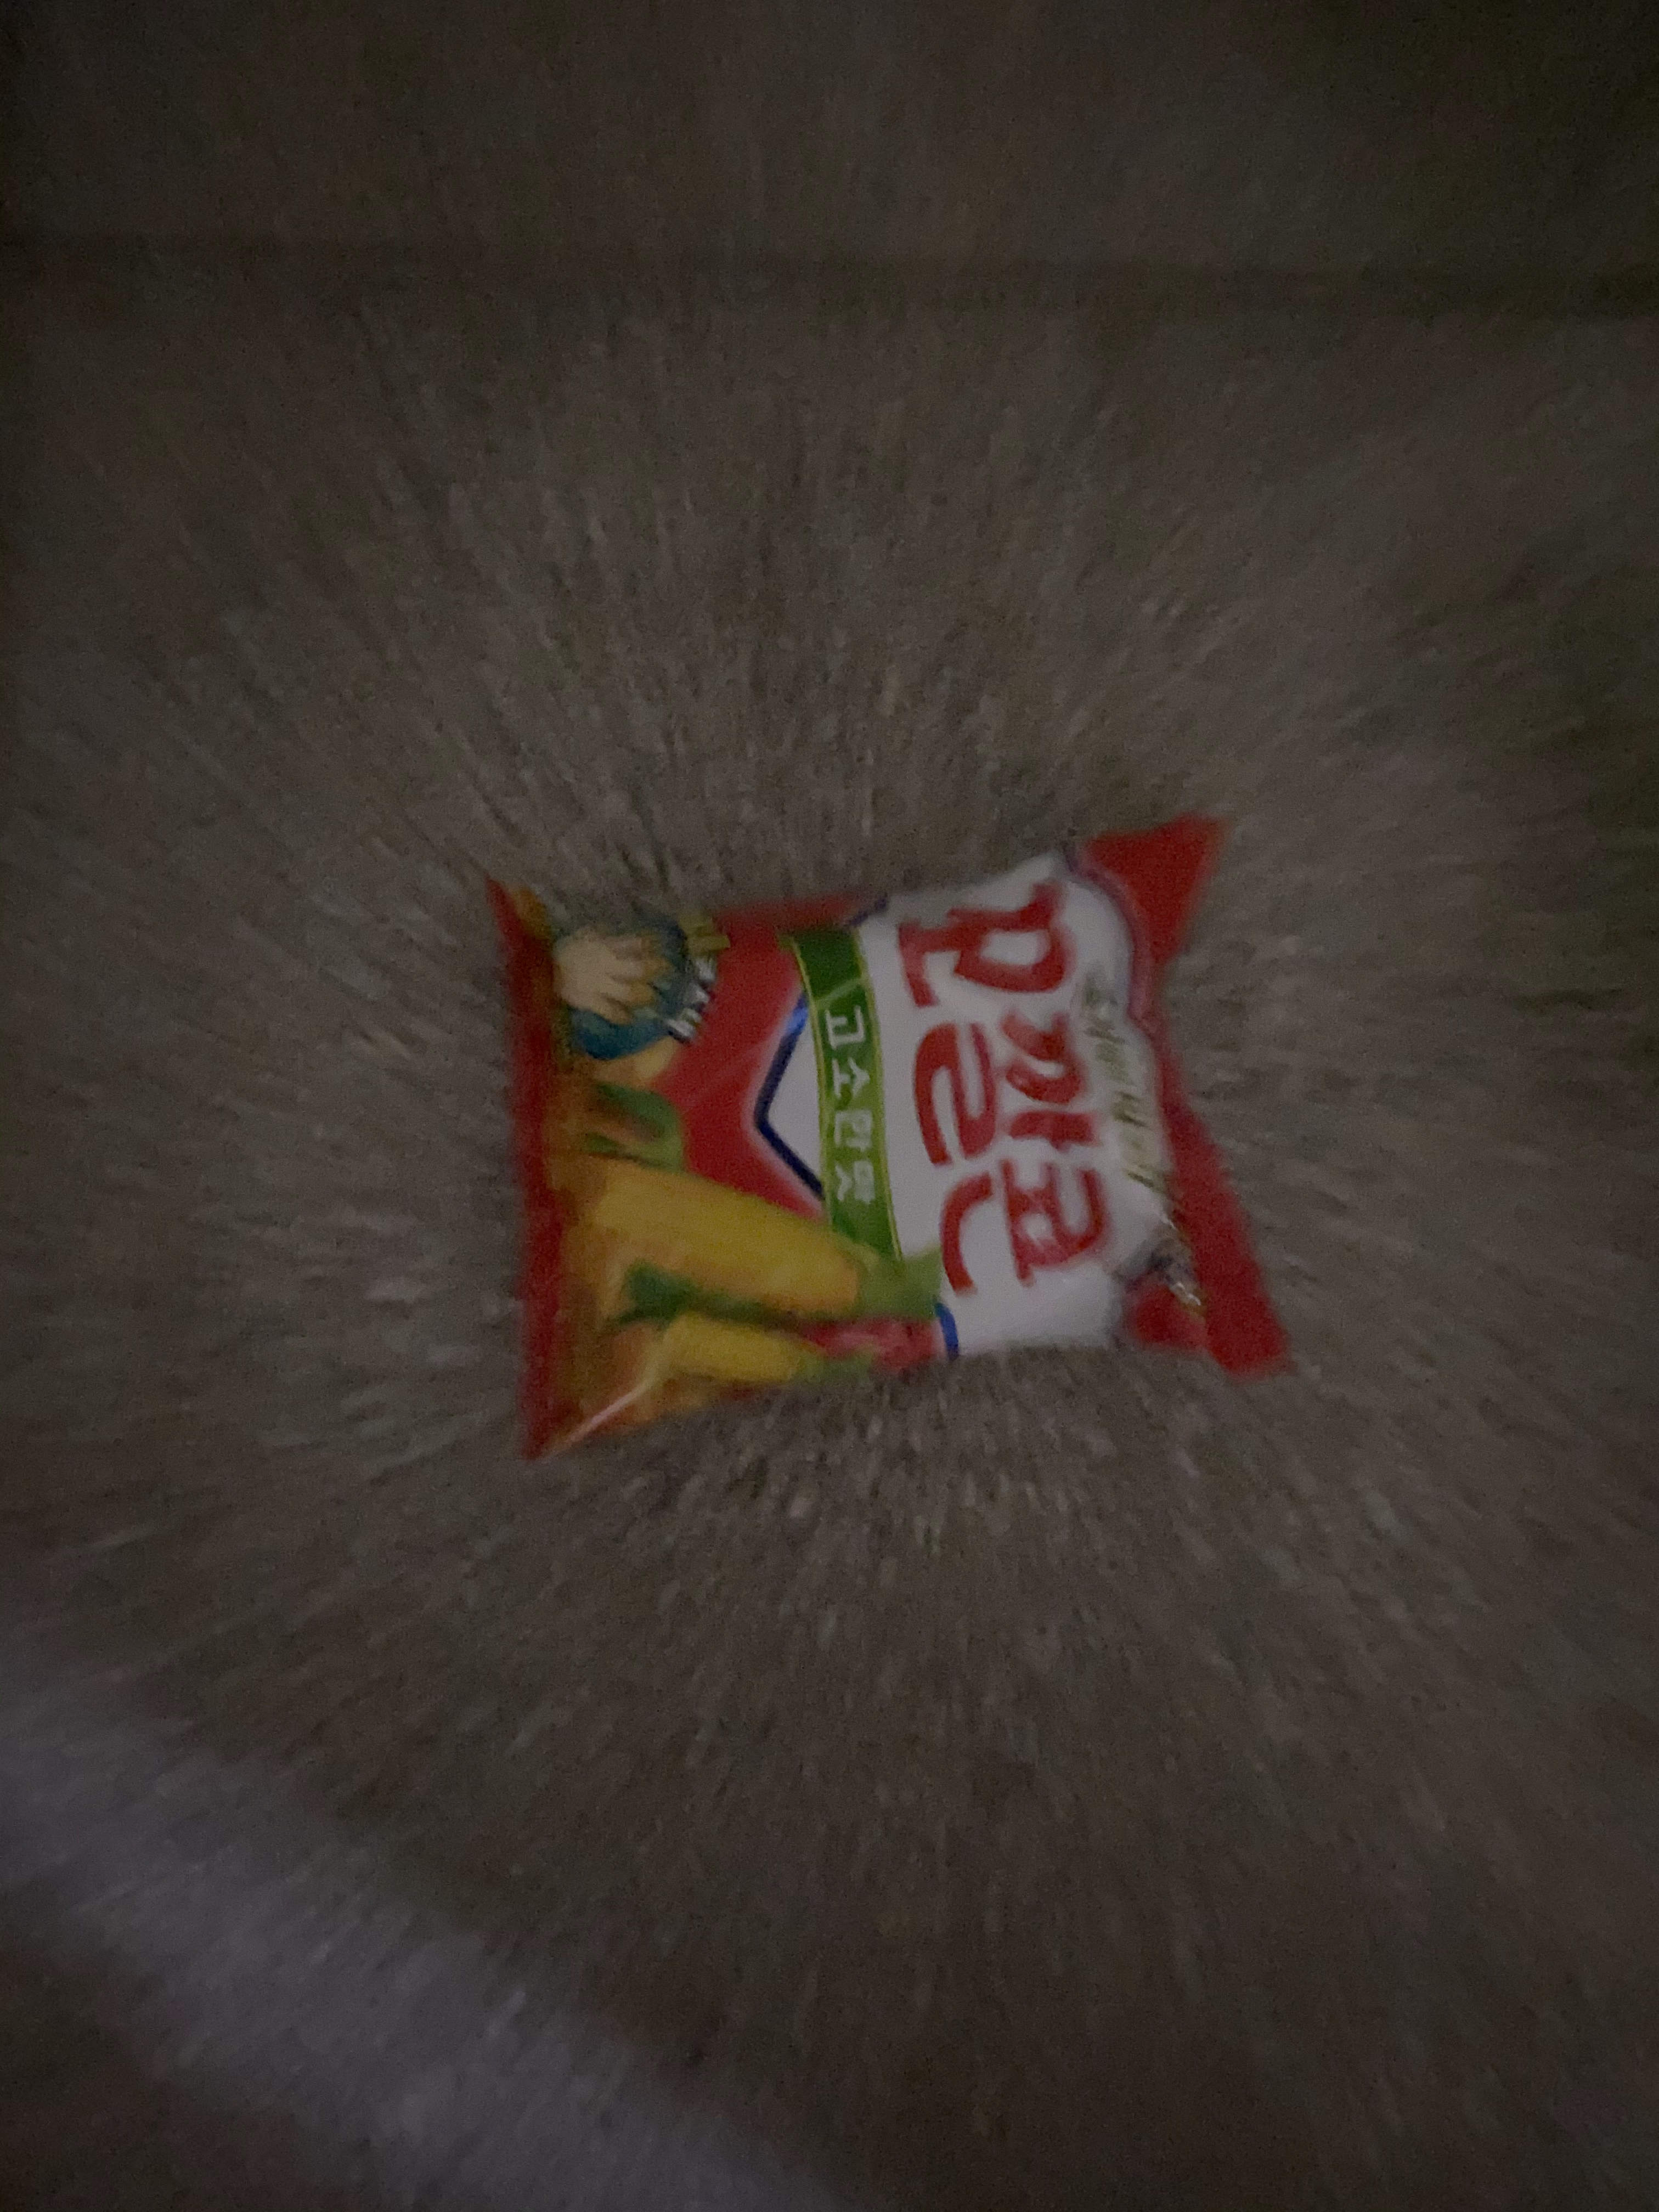ggoggalcon: (439, 805, 1330, 1480)
